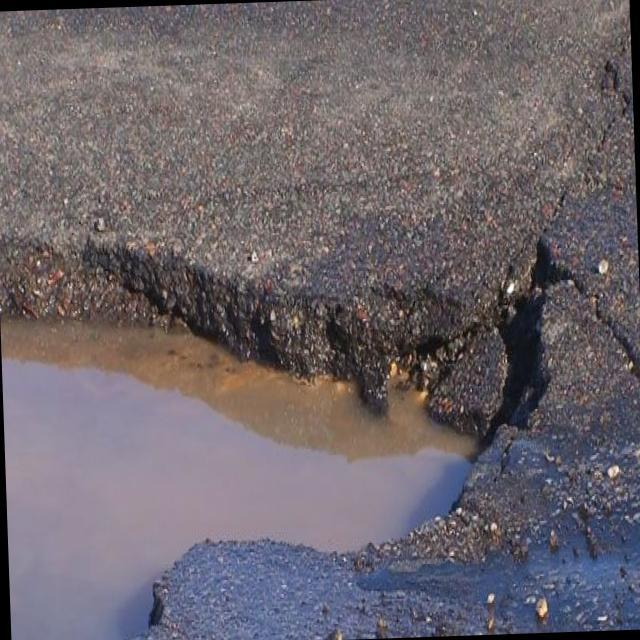Pothole: (0, 133, 608, 640)
